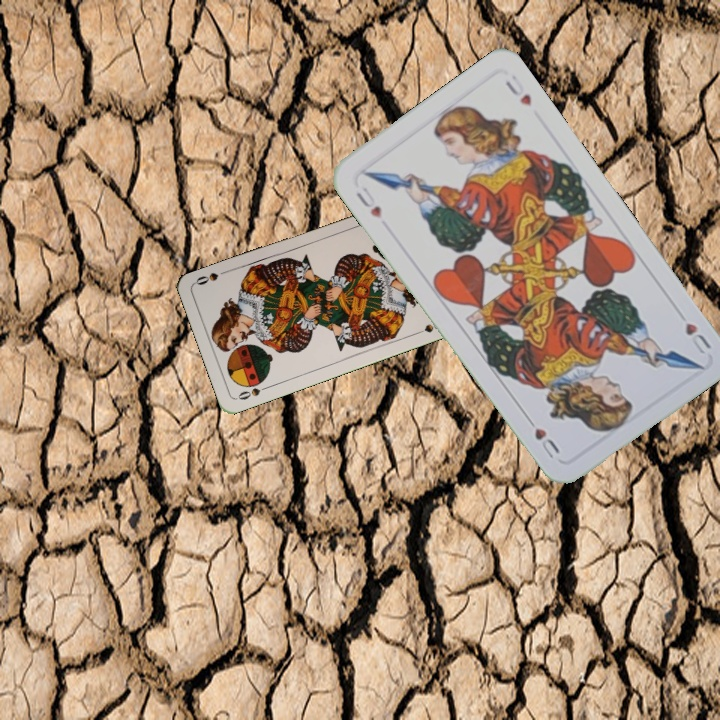HU: (351, 182, 384, 221), (681, 319, 714, 357)
SO: (232, 382, 272, 402)
